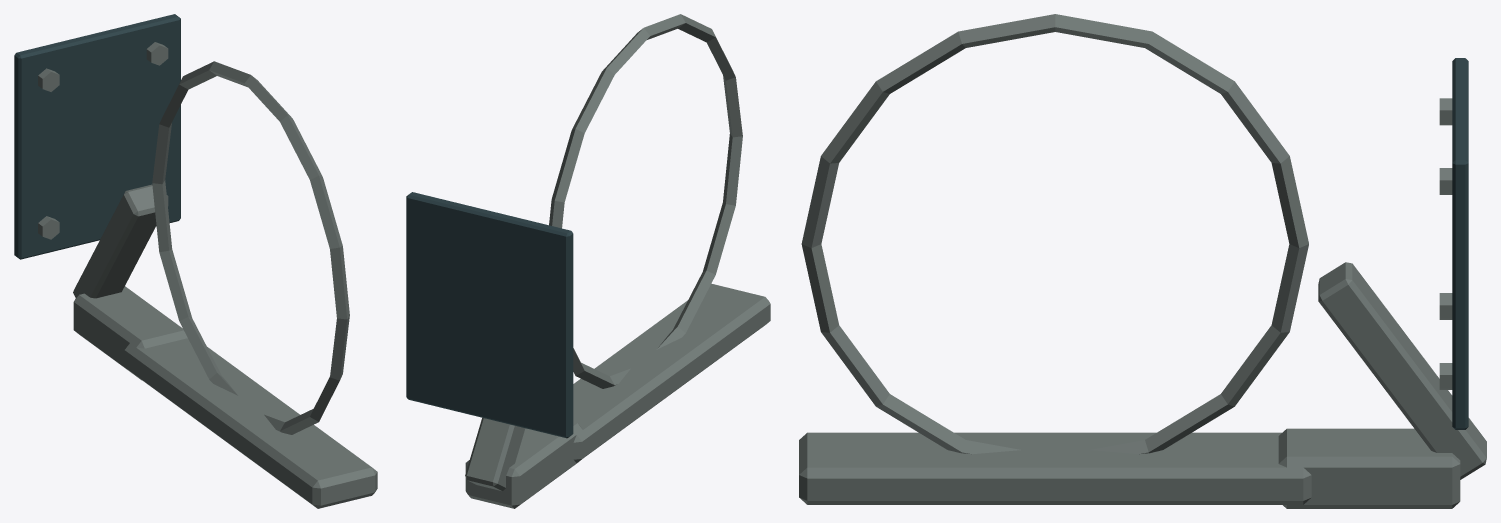
The model's file is pipe-bracket.glb.
The picture shows the model from 3 angles, left to right: view 1: azimuth 30°, elevation 25°; view 2: azimuth 150°, elevation 25°; view 3: azimuth 270°, elevation 25°; orthographic projection. The views are drawn at different scales.
Visible parts, largest first — view 1: pipe-bracket__pipe-bracket__hardware, pipe-bracket__pipe-bracket__steel; view 2: pipe-bracket__pipe-bracket__steel, pipe-bracket__pipe-bracket__hardware; view 3: pipe-bracket__pipe-bracket__hardware, pipe-bracket__pipe-bracket__steel.
Part boxes in pixels (x1,y1,x2,y2): pipe-bracket__pipe-bracket__hardware: (38,42,377,508); pipe-bracket__pipe-bracket__steel: (14,14,180,259); pipe-bracket__pipe-bracket__steel: (406,192,573,438); pipe-bracket__pipe-bracket__hardware: (465,14,770,508); pipe-bracket__pipe-bracket__hardware: (799,14,1486,508); pipe-bracket__pipe-bracket__steel: (1452,58,1468,429).
Bounding box in the file's own units: 0.3 × 0.642 × 0.8319.
